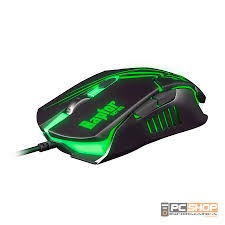mouse: (26, 64, 218, 172)
